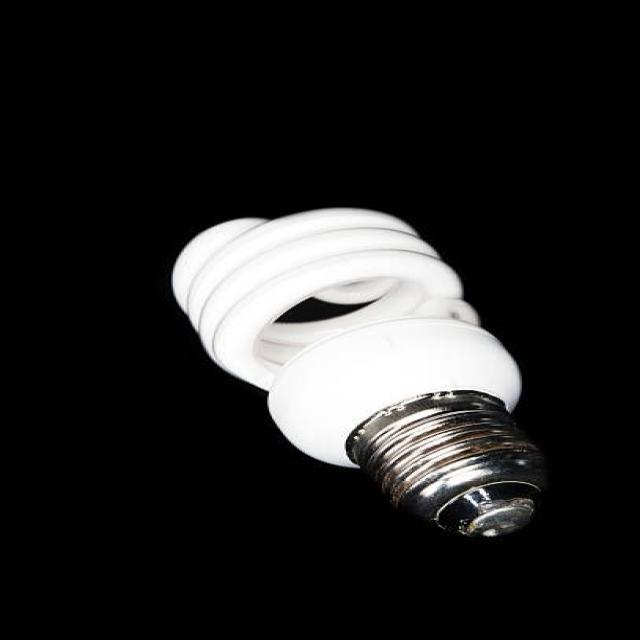electronic: (168, 205, 549, 539)
